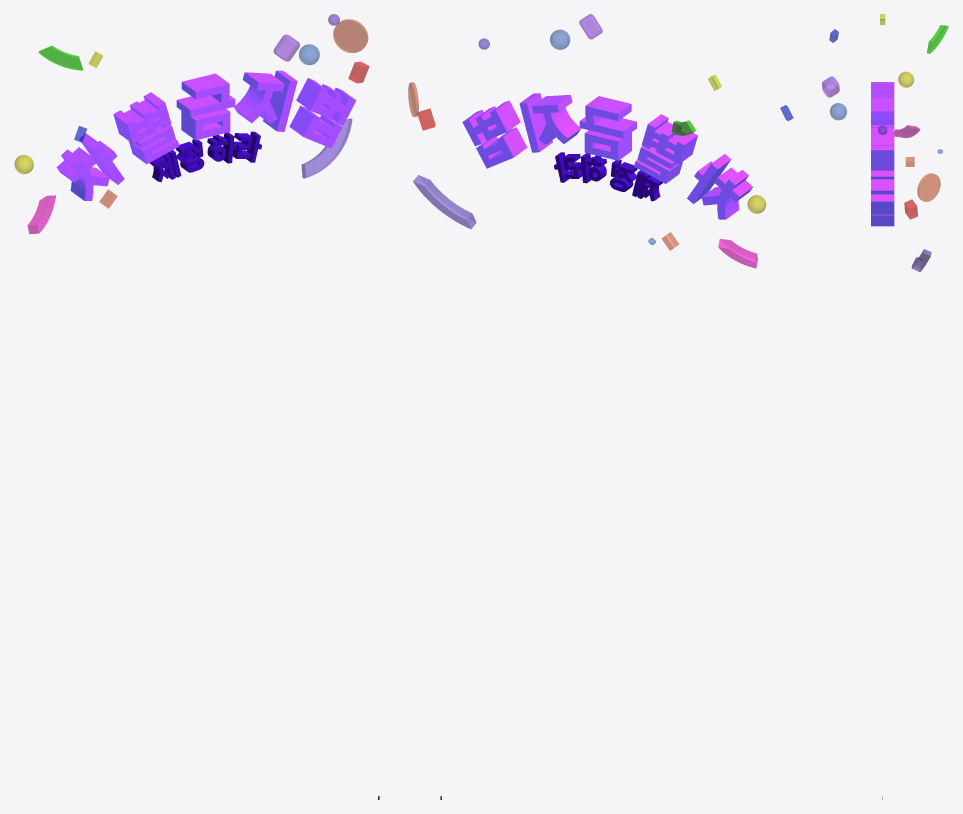
The model's file is cha.glb.
The picture shows the model from 3 angles, left to right: view 1: azimuth 30°, elevation 25°; view 2: azimuth 150°, elevation 25°; view 3: azimuth 270°, elevation 25°; orthographic projection. The views are drawn at different scales.
Parts seen in each view (by area): view 1: Body46, Body44, Body43, Body47, Body40, Body42, Body41, Body39, Body38, Body55, Body56, Body45; view 2: Body46, Body44, Body43, Body47, Body40, Body42, Body55, Body41, Body39, Body38, Body45; view 3: Body47, Body46, Body38, Body56, Body43, Body44, Body42, Body48, Body1, Body55.
Part boxes in pixels (x1=…): Body46: x1=176, y1=73, x2=235, y2=117; Body44: x1=113, y1=92, x2=171, y2=143; Body43: x1=234, y1=72, x2=284, y2=123; Body47: x1=296, y1=78, x2=356, y2=125; Body40: x1=56, y1=147, x2=109, y2=200; Body42: x1=289, y1=105, x2=342, y2=148; Body41: x1=181, y1=109, x2=230, y2=140; Body39: x1=129, y1=125, x2=179, y2=164; Body38: x1=263, y1=70, x2=297, y2=131; Body55: x1=301, y1=118, x2=352, y2=178; Body56: x1=333, y1=19, x2=368, y2=52; Body45: x1=79, y1=133, x2=124, y2=184; Body46: x1=579, y1=96, x2=636, y2=138; Body44: x1=641, y1=114, x2=697, y2=164; Body43: x1=532, y1=95, x2=581, y2=144; Body47: x1=462, y1=100, x2=520, y2=146; Body40: x1=701, y1=167, x2=752, y2=219; Body42: x1=476, y1=127, x2=527, y2=168; Body55: x1=413, y1=175, x2=476, y2=229; Body41: x1=584, y1=130, x2=631, y2=160; Body39: x1=634, y1=146, x2=682, y2=183; Body38: x1=519, y1=93, x2=552, y2=152; Body45: x1=687, y1=154, x2=731, y2=203; Body47: x1=871, y1=170, x2=894, y2=214; Body46: x1=871, y1=98, x2=894, y2=127; Body38: x1=871, y1=145, x2=894, y2=170; Body56: x1=917, y1=173, x2=940, y2=201; Body43: x1=871, y1=128, x2=894, y2=145; Body44: x1=871, y1=83, x2=894, y2=97; Body42: x1=871, y1=214, x2=894, y2=226; Body48: x1=927, y1=25, x2=948, y2=53; Body1: x1=822, y1=76, x2=839, y2=97; Body55: x1=911, y1=249, x2=931, y2=271.
Size of the model in its own units: 1.04 by 2.25 by 0.3844.
